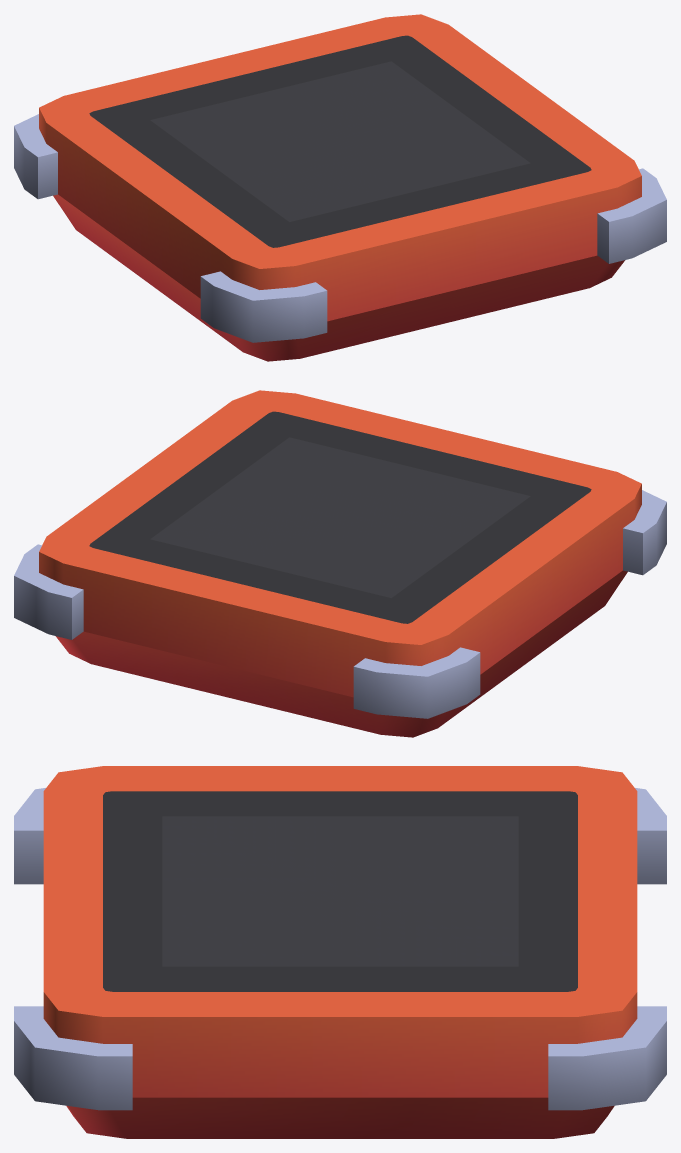
The model's file is platform.glb.
3 views of the same model, one above another, from view 1: azimuth 30°, elevation 25°; view 2: azimuth 150°, elevation 25°; view 3: azimuth 270°, elevation 25° (orthographic). The views are drawn at different scales.
Visible parts, largest first — view 1: platform-falling; view 2: platform-falling; view 3: platform-falling.
Boxes of the visible parts, bbox=[...] form: platform-falling: bbox=[14, 14, 666, 361]; platform-falling: bbox=[14, 390, 666, 737]; platform-falling: bbox=[14, 766, 666, 1138].
Bounding box in the file's own units: 2.2 × 0.5 × 2.2.
Materials: 1 (1 with a texture image).
